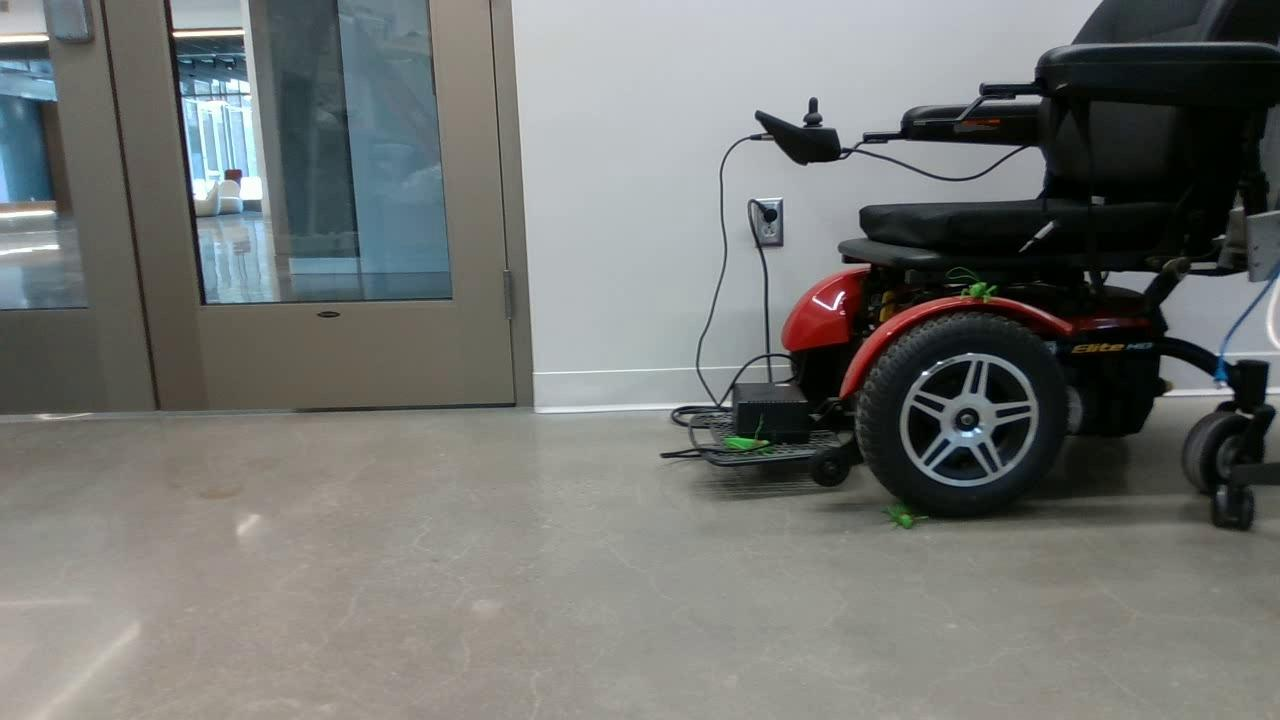grasshopper: (882, 501, 918, 535), (961, 279, 998, 308), (720, 436, 769, 455)
